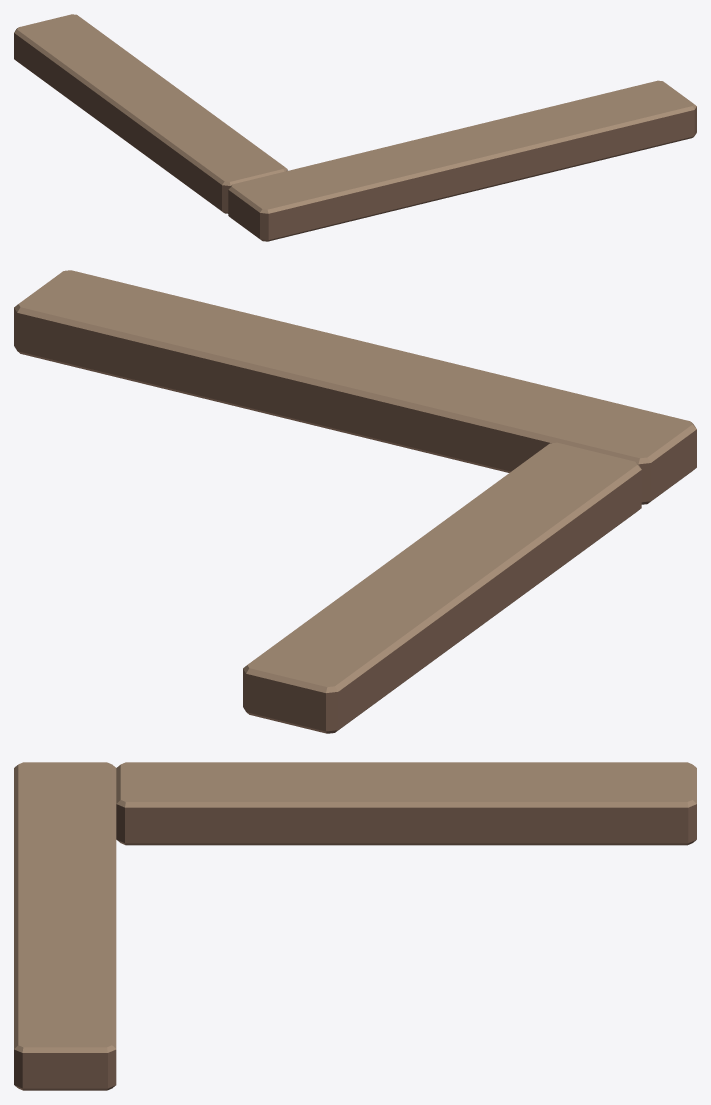
Rendered from floor-border-corner.glb.
3 renders of one model, top to bottom at view 1: azimuth 30°, elevation 25°; view 2: azimuth 150°, elevation 25°; view 3: azimuth 270°, elevation 25°, orthographic. The views are drawn at different scales.
Visible parts, largest first — view 1: floor-border-corner__body; view 2: floor-border-corner__body; view 3: floor-border-corner__body.
Boxes of the visible parts, left/top/right/bottom form: floor-border-corner__body: left=14, top=14, right=696, bottom=241; floor-border-corner__body: left=14, top=270, right=696, bottom=733; floor-border-corner__body: left=14, top=762, right=696, bottom=1090.
Bounding box in the file's own units: 2 × 0.14 × 2.
